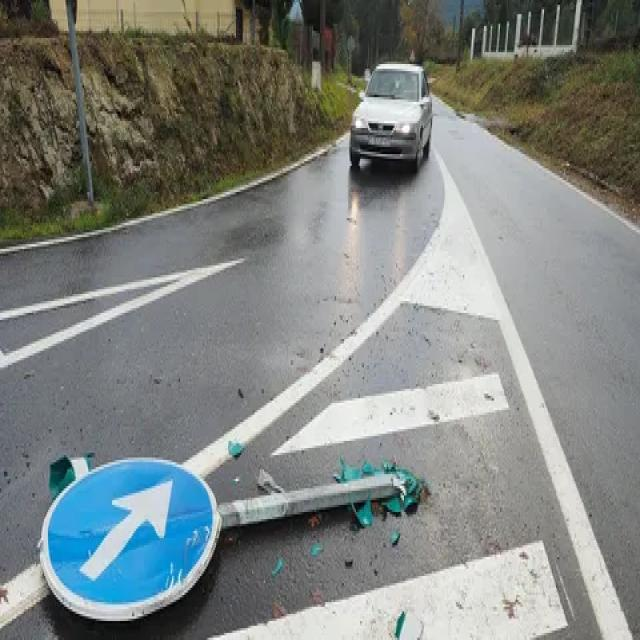Inclined Pole: (40, 403, 438, 633)
